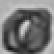correct: (1, 7, 52, 52)
